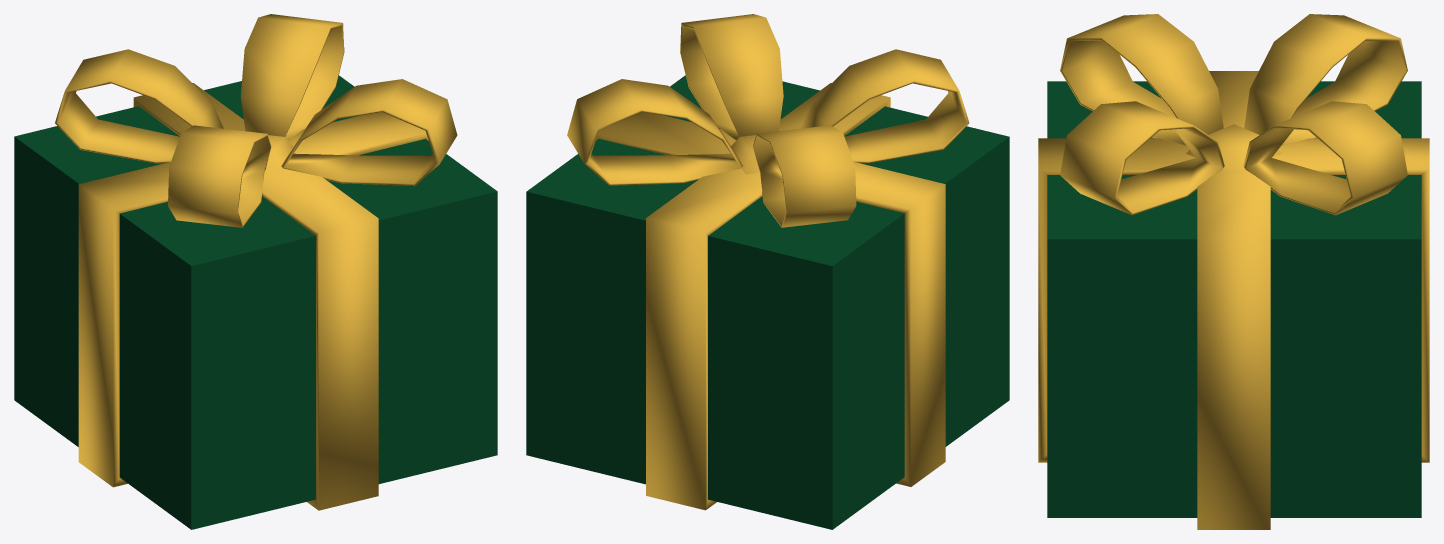
The model's file is giftBigGreen.glb.
3 renders of one model, left to right at view 1: azimuth 30°, elevation 25°; view 2: azimuth 150°, elevation 25°; view 3: azimuth 270°, elevation 25°, orthographic. The views are drawn at different scales.
Visible parts, largest first — view 1: GiftBigGreen; view 2: GiftBigGreen; view 3: GiftBigGreen.
Part boxes in pixels (left/top/right/bottom): GiftBigGreen: left=14, top=14, right=497, bottom=529; GiftBigGreen: left=526, top=14, right=1009, bottom=529; GiftBigGreen: left=1038, top=14, right=1429, bottom=529.
Size of what is drawn, in the model's own units: 0.9149 by 0.9717 by 0.9149.
Materials: 2 (2 with a texture image).
